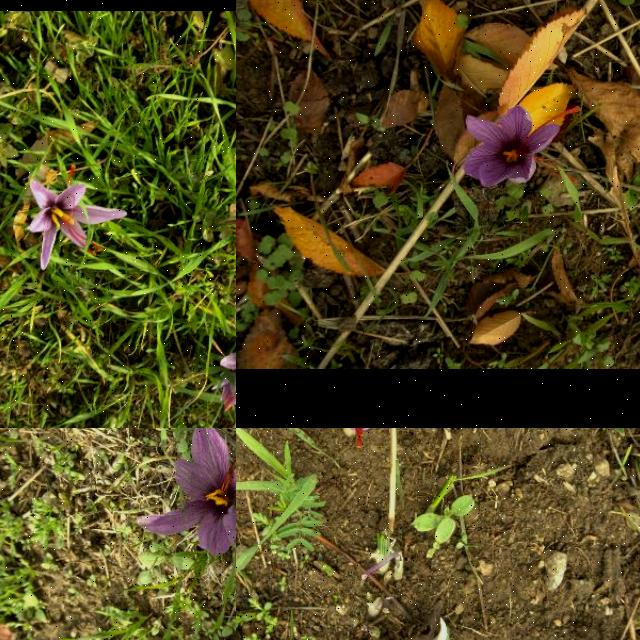flower: (135, 428, 236, 560), (26, 165, 126, 271), (464, 105, 582, 188), (302, 428, 384, 448), (220, 335, 236, 381)
